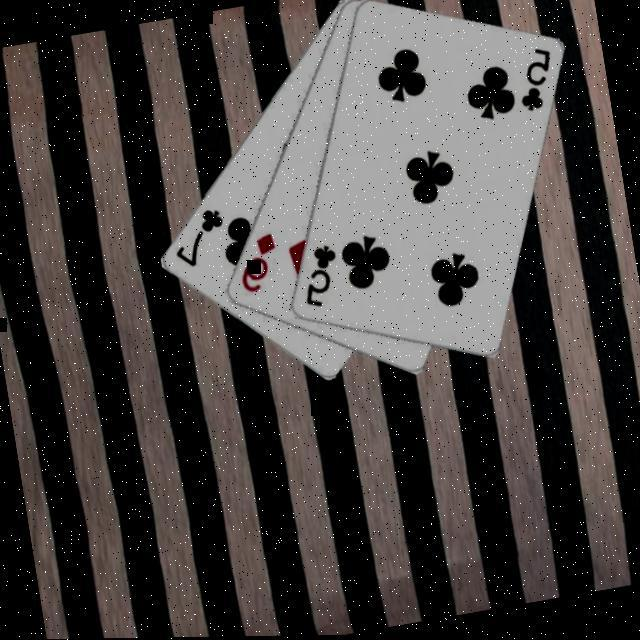5C: (295, 242, 348, 315), (512, 45, 564, 118)
6D: (232, 230, 286, 300)
7C: (168, 204, 235, 274)
